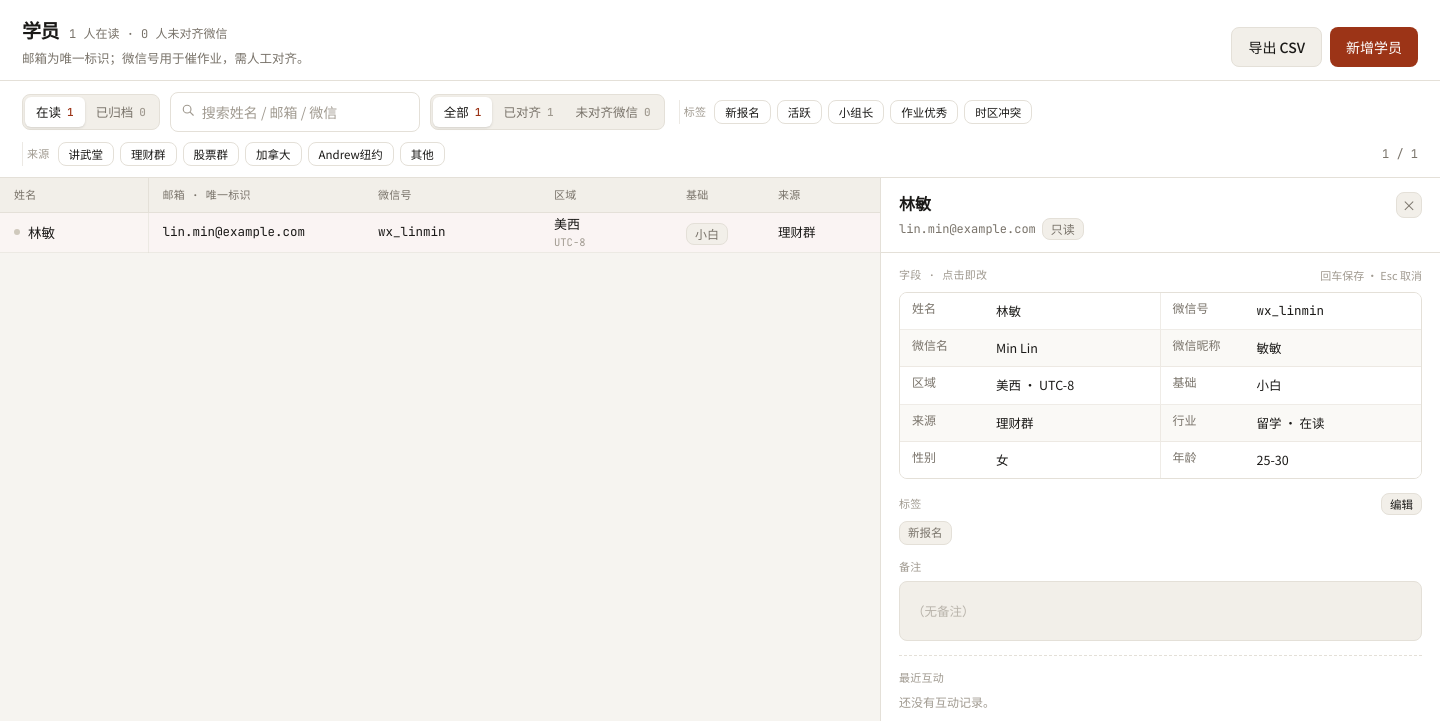
an enum field that fails to save › still lets the user choose a different value afterwards
What coordinates should you click on to do the following:
click the button "美西 · UTC-8"
I would click on:
 (1072, 386)
Its box is [996,373,1148,398].
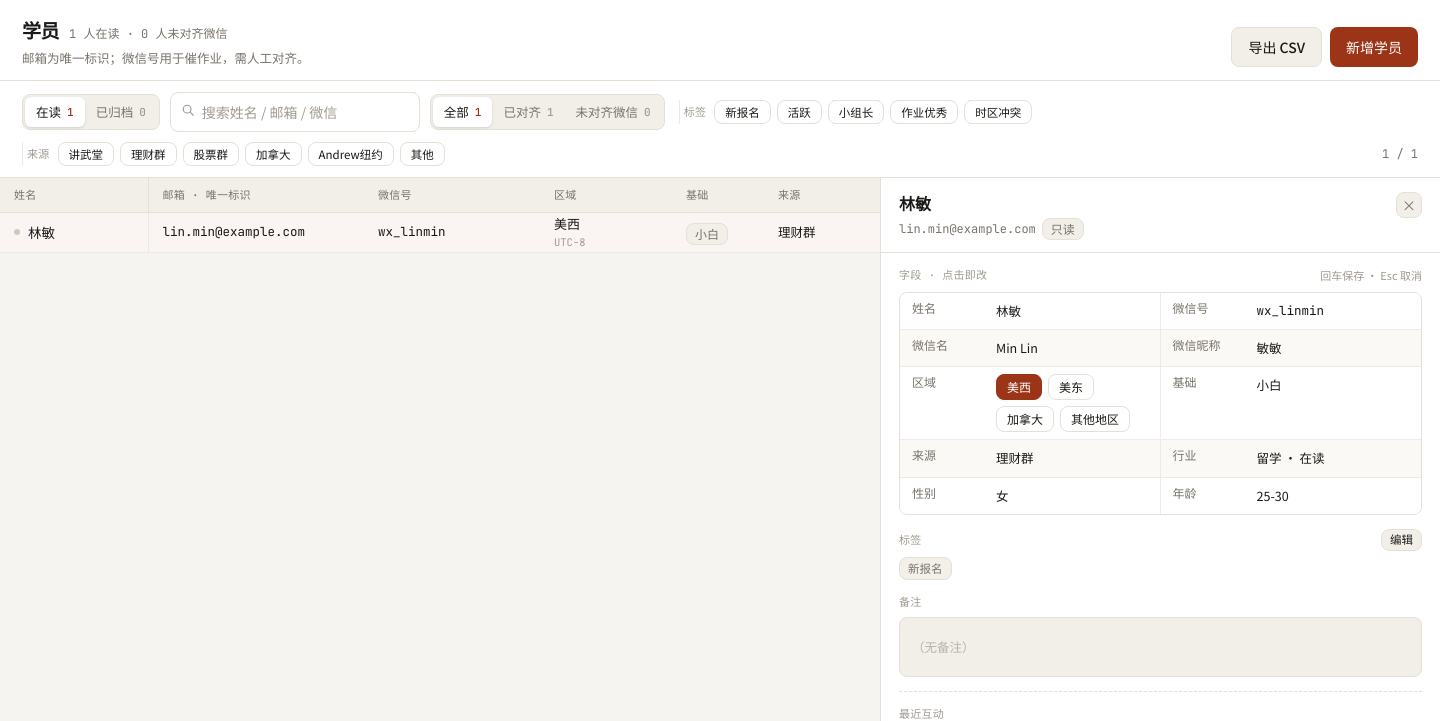
What coordinates should you click on to do the following:
click the button "美东"
I would click on:
 (1071, 387)
Its box is [1048,374,1094,400].
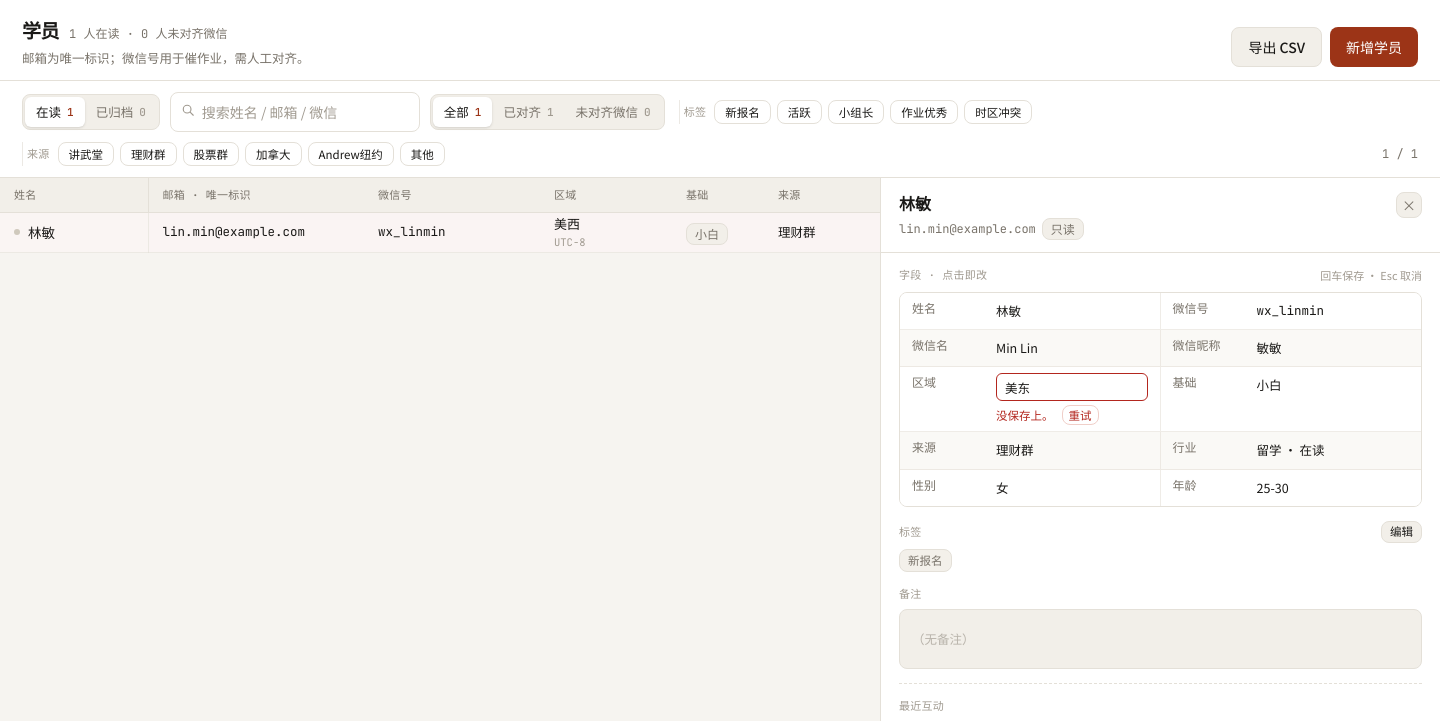
Expected: the text "没保存上。" is shown, [996,407,1054,424]
Note: Back into the field: the picker must come up again.
What coordinates should you click on to do the following:
click the 2nd field
I would click on:
 (1072, 387)
Its box is [996,373,1148,401].
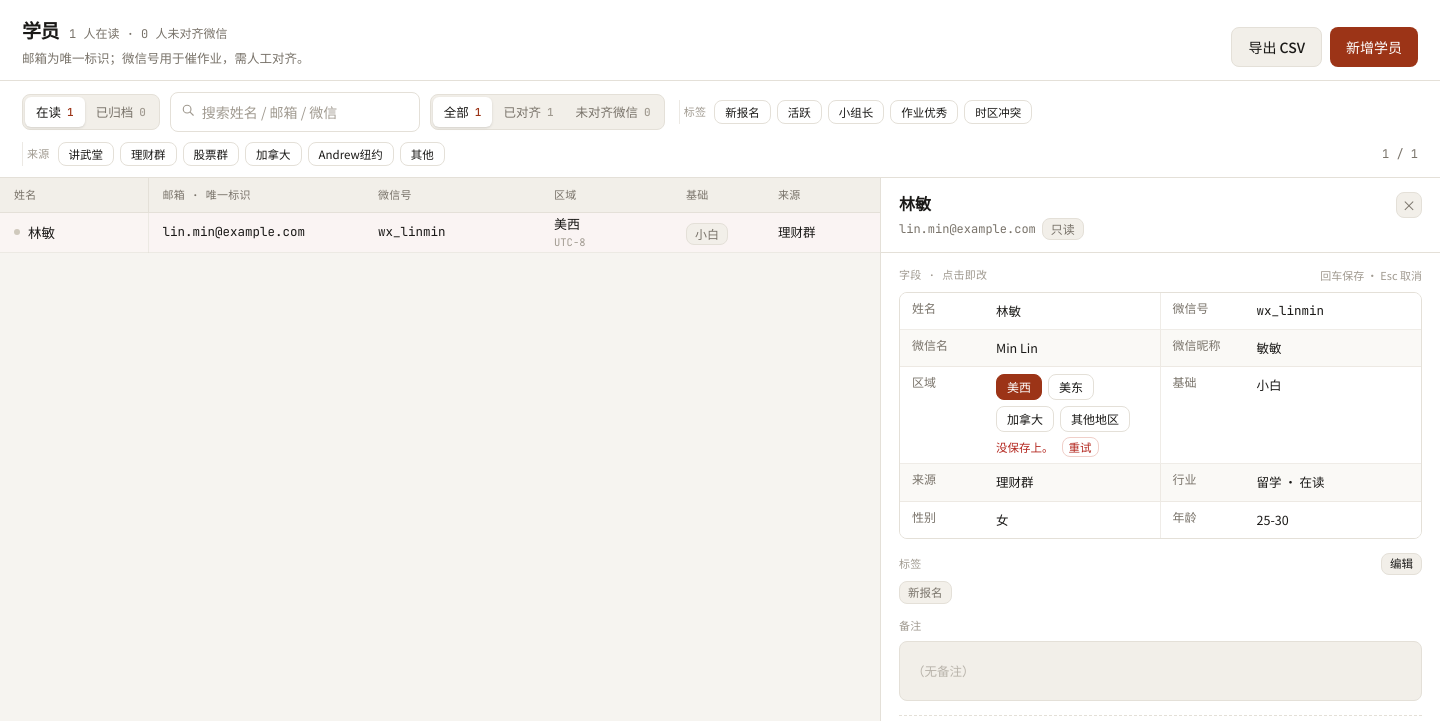
Expected: the button "加拿大" below "微信名" is shown, [996,406,1054,432]
